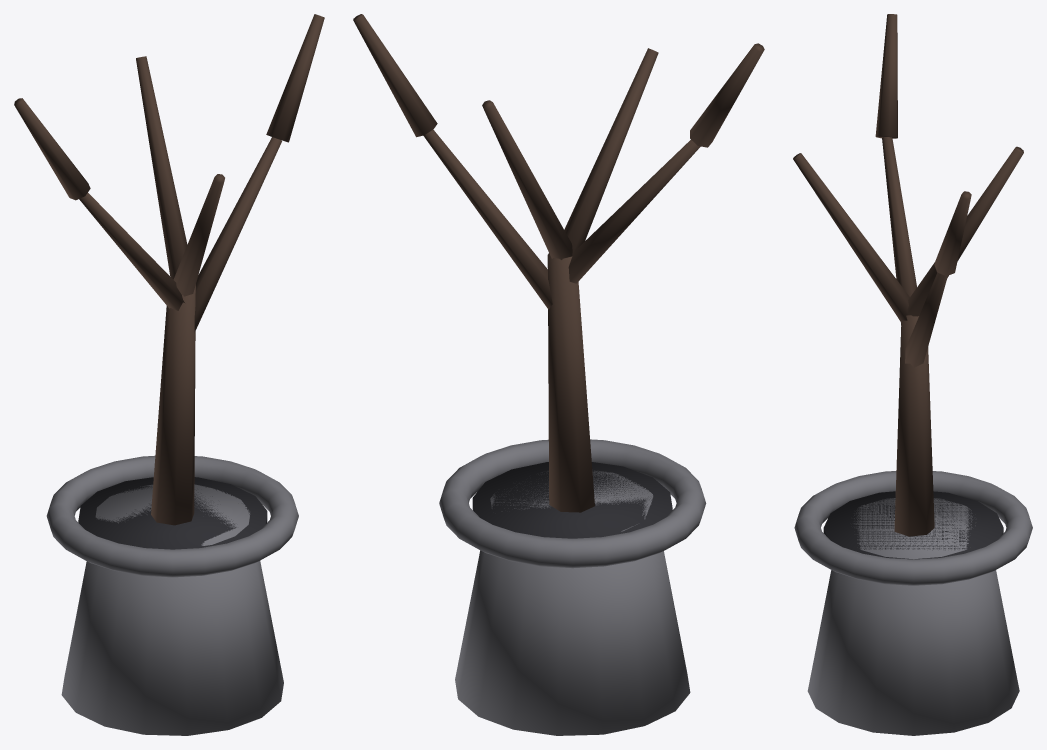
Rendered from plant.glb.
The picture shows the model from 3 angles, left to right: view 1: azimuth 30°, elevation 25°; view 2: azimuth 150°, elevation 25°; view 3: azimuth 270°, elevation 25°; orthographic projection. The views are drawn at different scales.
Visible parts, largest first — view 1: GD_plant; view 2: GD_plant; view 3: GD_plant.
Part boxes in pixels (x1,y1,x2,y2): GD_plant: [14, 14, 324, 735]; GD_plant: [353, 14, 764, 735]; GD_plant: [793, 14, 1032, 735].
Size of the model in its own units: 0.7168 by 1.26 by 0.4526.
